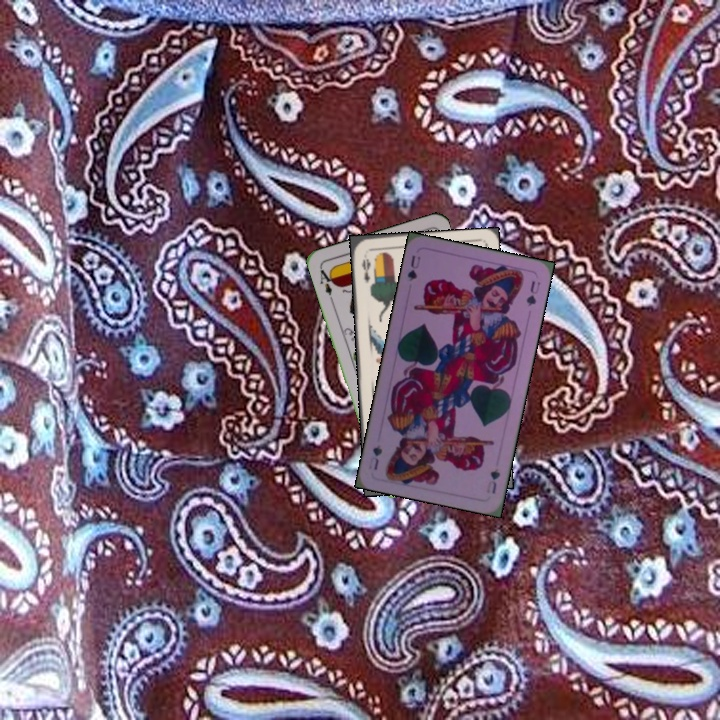EA: (315, 263, 337, 303)
EO: (357, 254, 373, 285)
GU: (482, 464, 503, 496), (403, 251, 423, 284)
